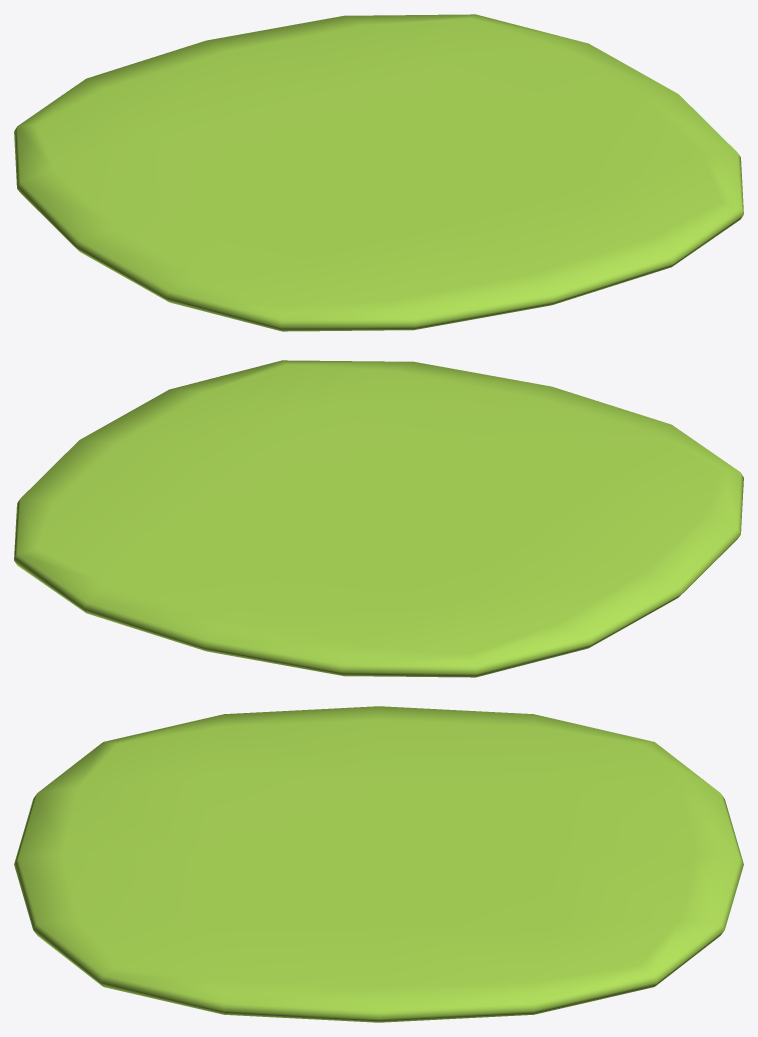
Rendered from Green_Ground1.fbx.
The picture shows the model from 3 angles, top to bottom: view 1: azimuth 30°, elevation 25°; view 2: azimuth 150°, elevation 25°; view 3: azimuth 270°, elevation 25°; orthographic projection. The views are drawn at different scales.
Parts seen in each view (by area): view 1: Plane; view 2: Plane; view 3: Plane.
Part boxes in pixels (<box>): Plane: <box>14,14,743,331</box>; Plane: <box>14,360,743,677</box>; Plane: <box>14,706,743,1022</box>.
Bounding box in the file's own units: 6.56 × 6.56 × 0.2451.
